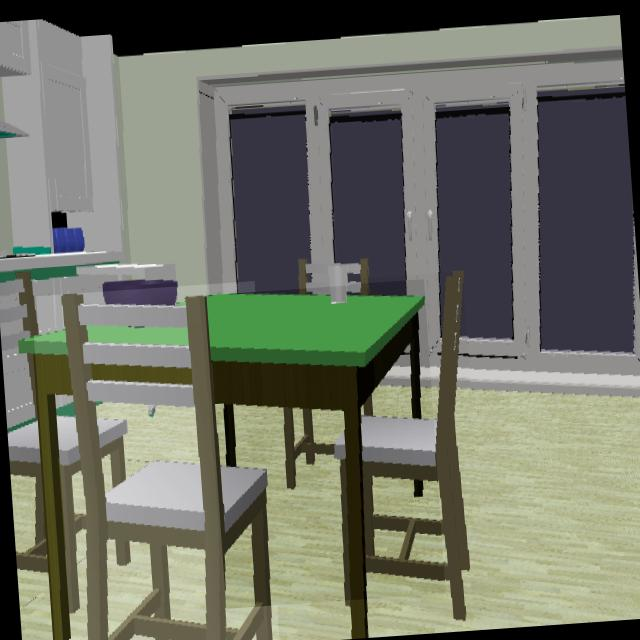cabinet: (0, 19, 122, 252)
chair: (55, 294, 272, 640), (360, 271, 470, 622), (7, 419, 47, 573), (15, 270, 38, 336)
table: (204, 294, 425, 600)
